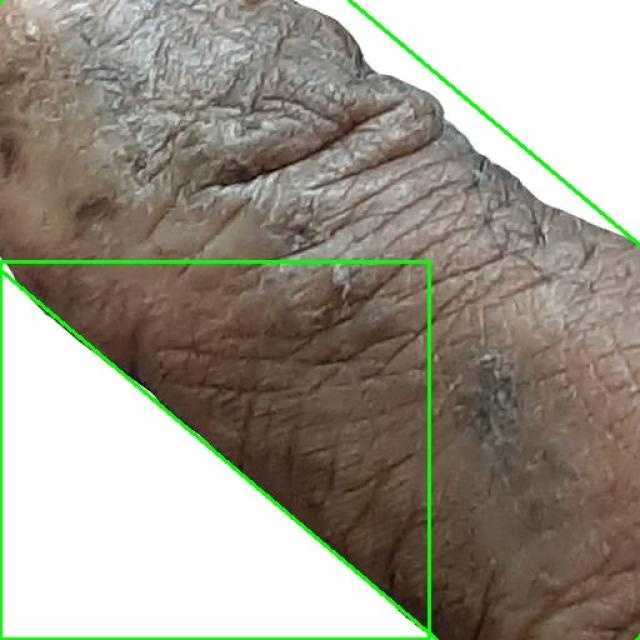Eczema: (0, 0, 640, 640), (0, 261, 429, 639)
